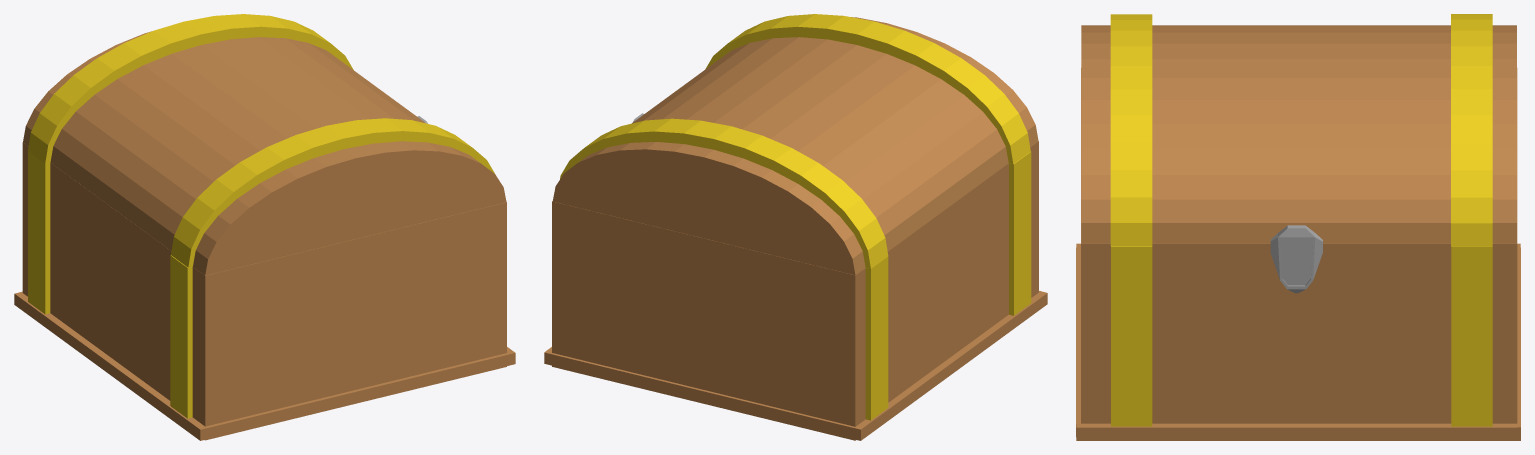
Rendered from Coffre.fbx.
The picture shows the model from 3 angles, left to right: view 1: azimuth 30°, elevation 25°; view 2: azimuth 150°, elevation 25°; view 3: azimuth 270°, elevation 25°; orthographic projection. The views are drawn at different scales.
Visible parts, largest first — view 1: Cube, Cylinder, Cylinder.001, Cylinder.002, Cube.005, Cube.004; view 2: Cube, Cylinder, Cylinder.001, Cylinder.002, Cube.004, Cube.005; view 3: Cylinder, Cube, Cylinder.002, Cylinder.001, Cube.002, Cube.003, Cube.001.
Boxes of the visible parts, box(x1,y1,x2,y2) form: Cube: box(14, 142, 515, 440); Cylinder: box(23, 31, 506, 275); Cylinder.001: box(28, 14, 353, 163); Cylinder.002: box(171, 118, 495, 267); Cube.005: box(170, 255, 192, 418); Cube.004: box(28, 151, 50, 314); Cube: box(544, 141, 1047, 440); Cylinder: box(552, 17, 1038, 275); Cylinder.001: box(560, 118, 888, 268); Cylinder.002: box(705, 14, 1030, 163); Cube.004: box(865, 257, 888, 420); Cube.005: box(1009, 151, 1031, 315); Cylinder: box(1081, 25, 1516, 243); Cube: box(1076, 68, 1520, 440); Cylinder.002: box(1110, 14, 1152, 245); Cylinder.001: box(1451, 14, 1492, 246); Cube.002: box(1111, 246, 1152, 426); Cube.003: box(1451, 246, 1492, 426); Cube.001: box(1270, 225, 1322, 293).
Bounding box in the file's own units: 211 × 162 × 214.
